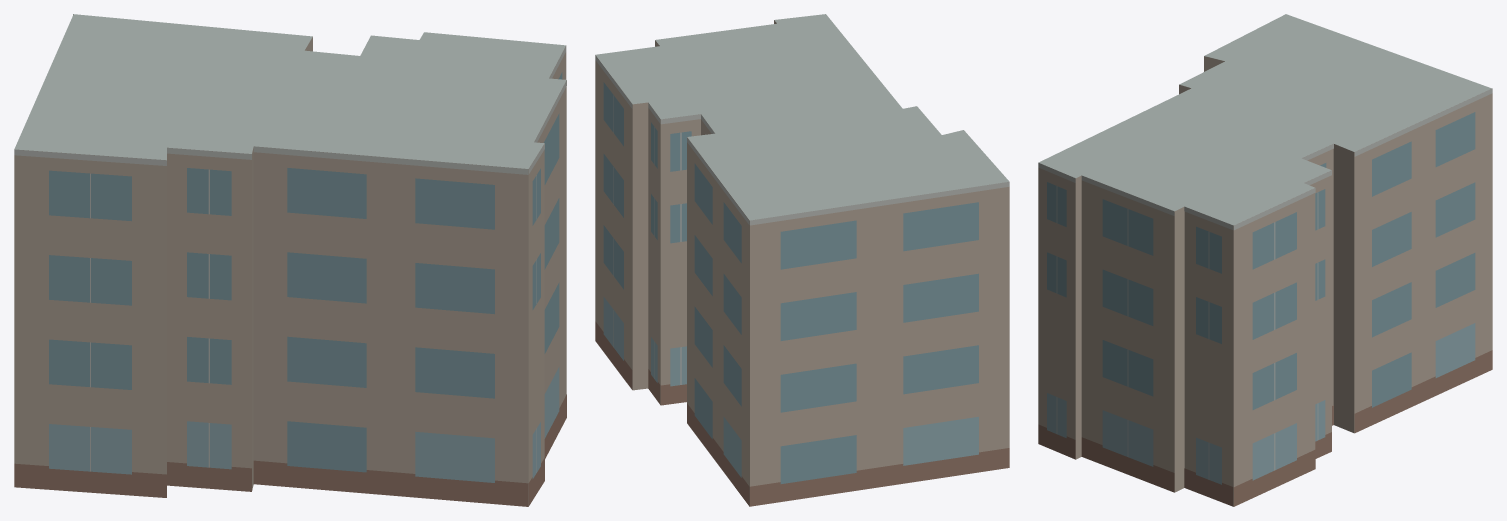
File: survey-upis-32782807.glb
3 renders of one model, left to right at view 1: azimuth 30°, elevation 25°; view 2: azimuth 150°, elevation 25°; view 3: azimuth 270°, elevation 25°, orthographic. The views are drawn at different scales.
Visible parts, largest first — view 1: survey-upis-32782807.tmp; view 2: survey-upis-32782807.tmp; view 3: survey-upis-32782807.tmp.
Part boxes in pixels (x1,y1,x2,y2): survey-upis-32782807.tmp: (14, 14, 566, 506); survey-upis-32782807.tmp: (595, 14, 1009, 506); survey-upis-32782807.tmp: (1038, 14, 1492, 506).
Size of the model in its own units: 22.59 by 14 by 20.5.
